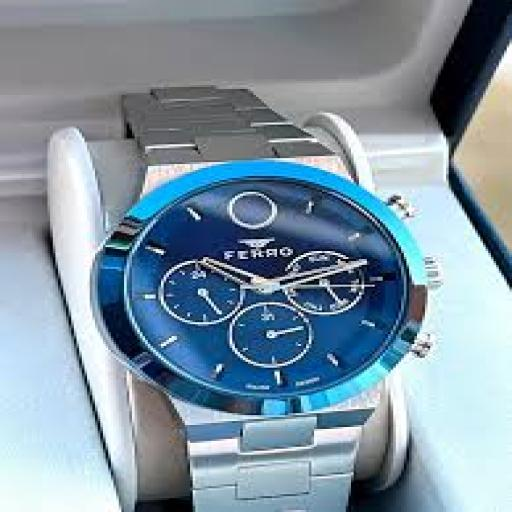KolSaati: (42, 62, 439, 500)
